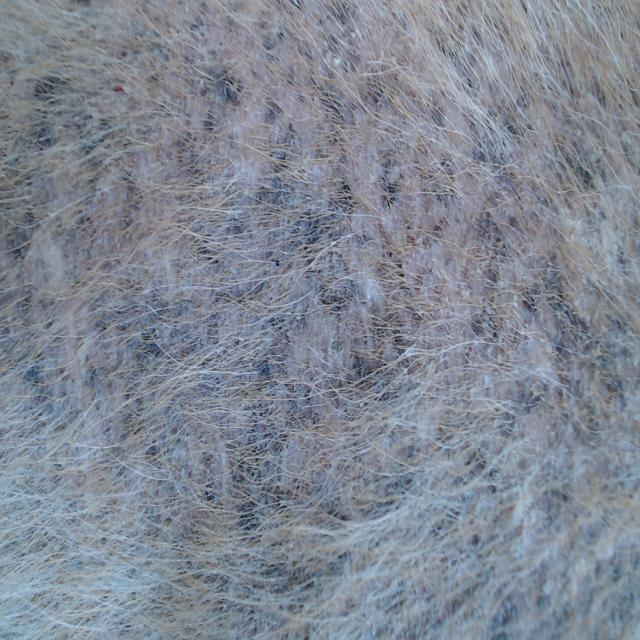demodicosis: (146, 23, 602, 532)
